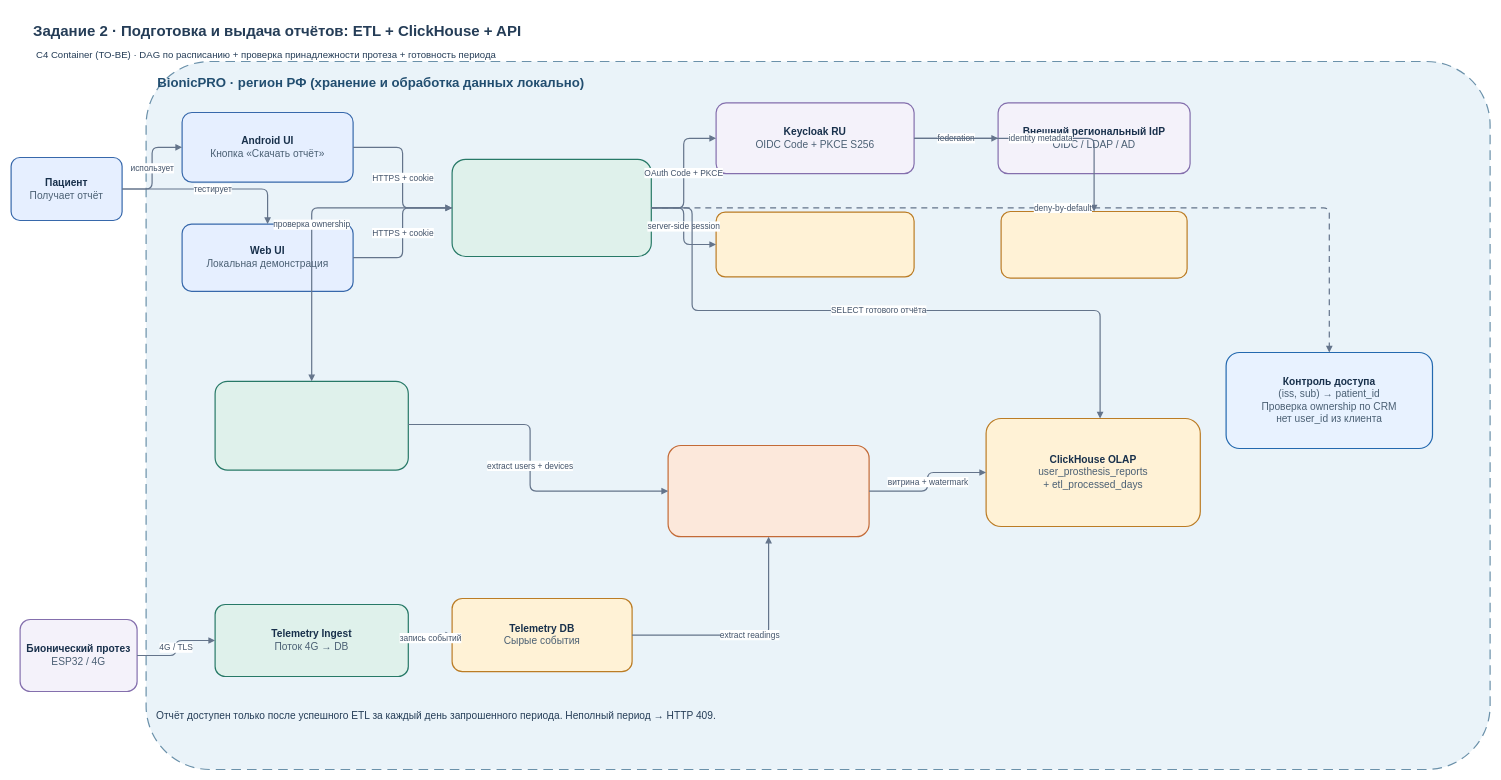
This 1501x780 diagram has some shape labels left out. Each missing label, with the centre of its shape:
Apache Airflow DAG: extract → aggregate → join → load: point 768,491
CRM / Patients Patient ↔ prosthesis Владение и идентичность: point 311,425
Keycloak DB (RU) Региональные metadata: point 1093,244
Redis Session Store Opaque session → user identity: point 814,244
Reports API + BFF /auth/*, /reports Session cookie · AuthZ: point 551,207
